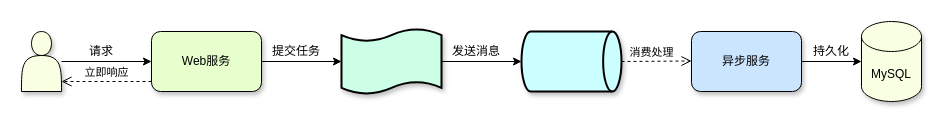
The diagram is 945 pixels wide and 126 high, and some of its shapes have lost their labels. Each missing label, with the centre of its shape:
Kafka: point (572, 62)
线程池: point (392, 63)
